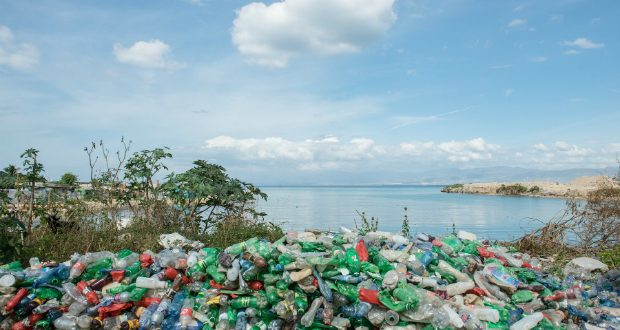litter: (58, 277, 95, 308), (144, 296, 175, 327), (29, 266, 69, 290), (402, 247, 438, 273), (129, 271, 178, 290), (299, 295, 327, 326), (465, 303, 503, 322), (504, 313, 545, 330), (177, 295, 196, 329), (391, 286, 420, 308), (543, 286, 581, 302), (204, 262, 229, 286), (443, 279, 478, 296), (67, 252, 88, 280), (224, 236, 256, 254), (232, 294, 266, 310), (345, 247, 362, 276), (508, 288, 538, 303), (264, 284, 284, 302), (380, 310, 402, 326), (108, 289, 132, 303), (186, 252, 201, 269), (256, 239, 271, 256)
